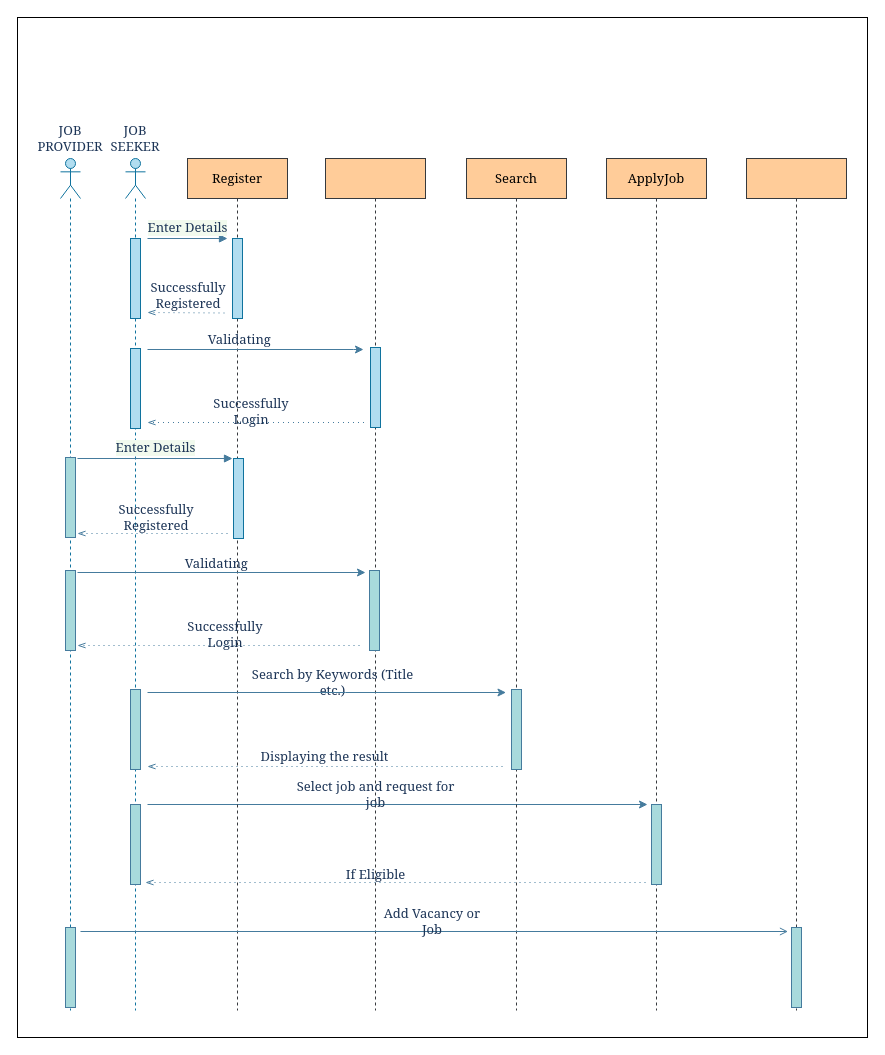
This 885x1055 diagram has some shape labels left out. The box of each missing label's shape, as (x1, y1, x2, y2) in pixels:
AddJob: (746, 158, 846, 1010)
Login: (324, 158, 426, 1010)
